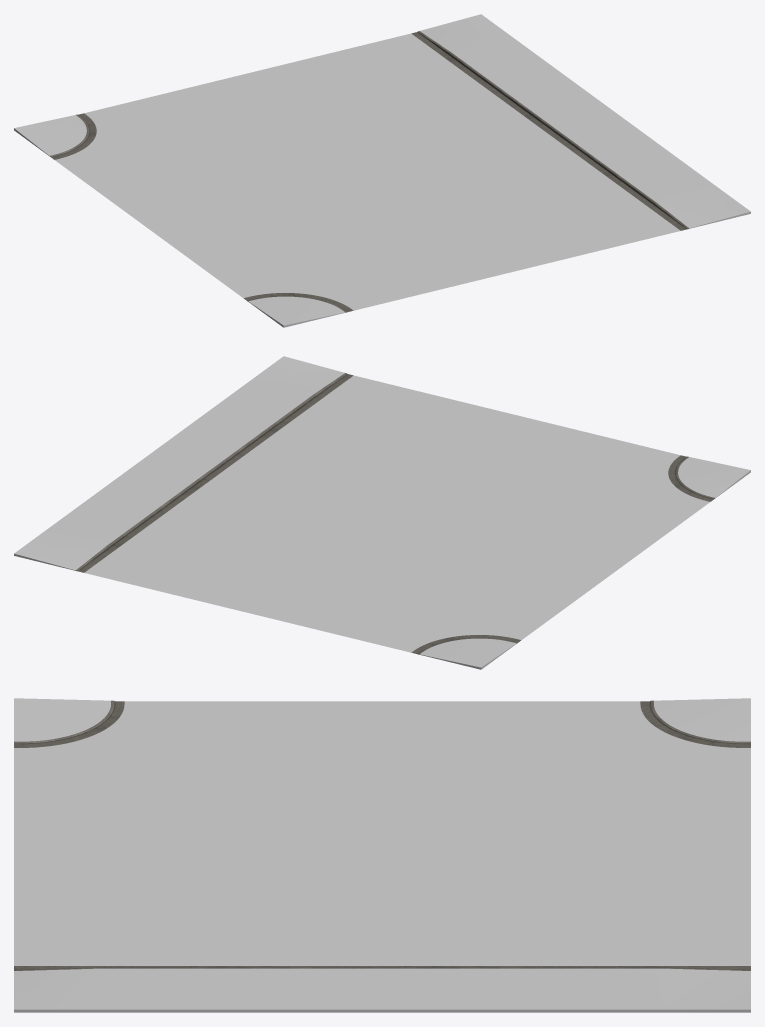
File: jcRoadT22mA.fbx
The picture shows the model from 3 angles, top to bottom: view 1: azimuth 30°, elevation 25°; view 2: azimuth 150°, elevation 25°; view 3: azimuth 270°, elevation 25°; orthographic projection. The views are drawn at different scales.
Visible parts, largest first — view 1: jcRoadT22mA; view 2: jcRoadT22mA; view 3: jcRoadT22mA.
Part boxes in pixels (x1=…): jcRoadT22mA: x1=14, y1=14, x2=750, y2=327; jcRoadT22mA: x1=14, y1=356, x2=750, y2=669; jcRoadT22mA: x1=14, y1=698, x2=750, y2=1012.
Size of the model in its own units: 2200 by 10 by 2200.
